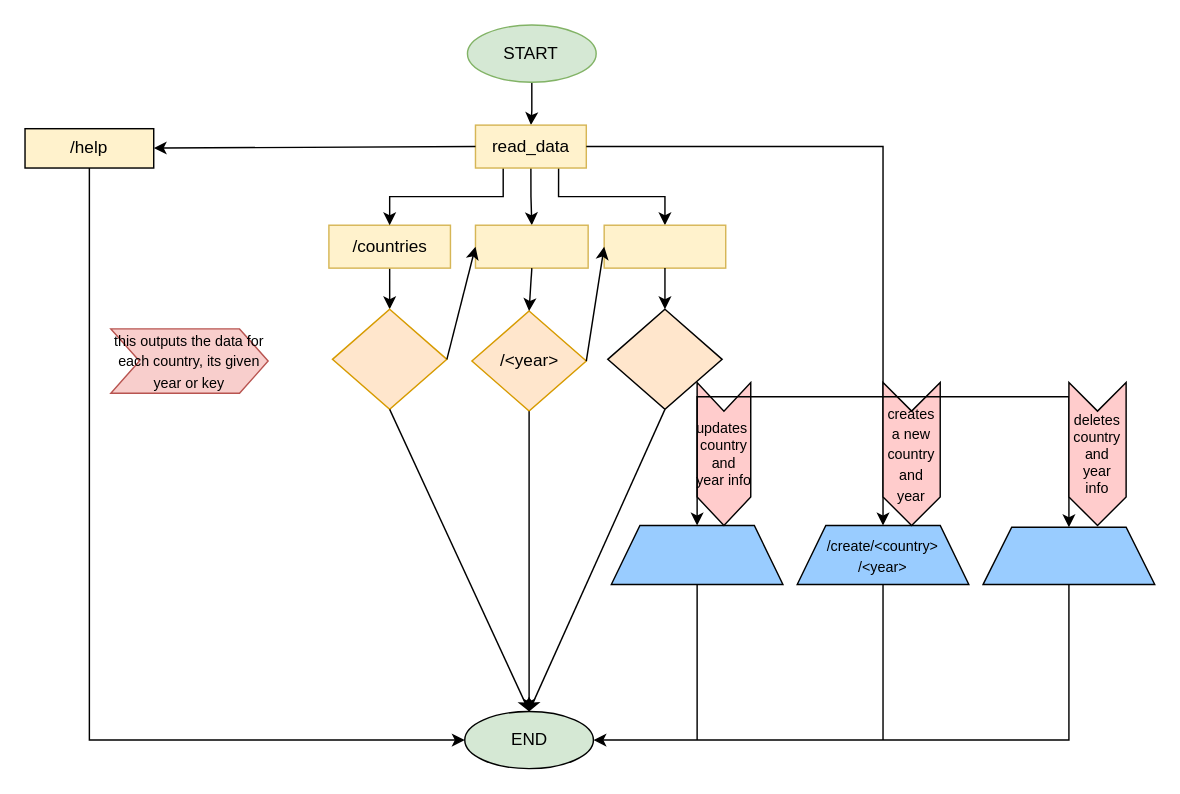
This 1180x794 diagram has some shape labels left out. The shapes that lost their labels are listed below. From the top down, each one's centre as x and y in pixels, then its label:
(531,246): /years
(664,246): /keys
(389,358): /<country>
(664,358): /<key>
(696,554): /update/<country> /<year>
(1068,555): /delete/<country> /<year>
